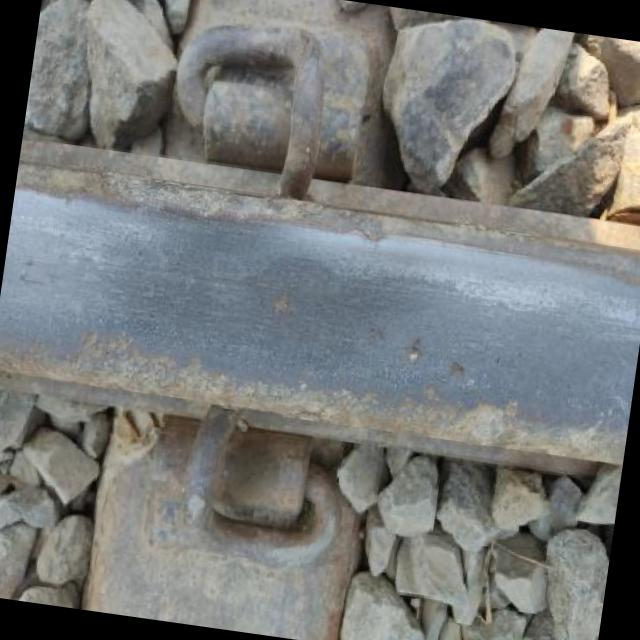defective: (0, 116, 640, 535)
